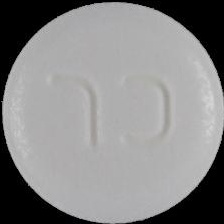33342-031: (0, 0, 224, 224)
